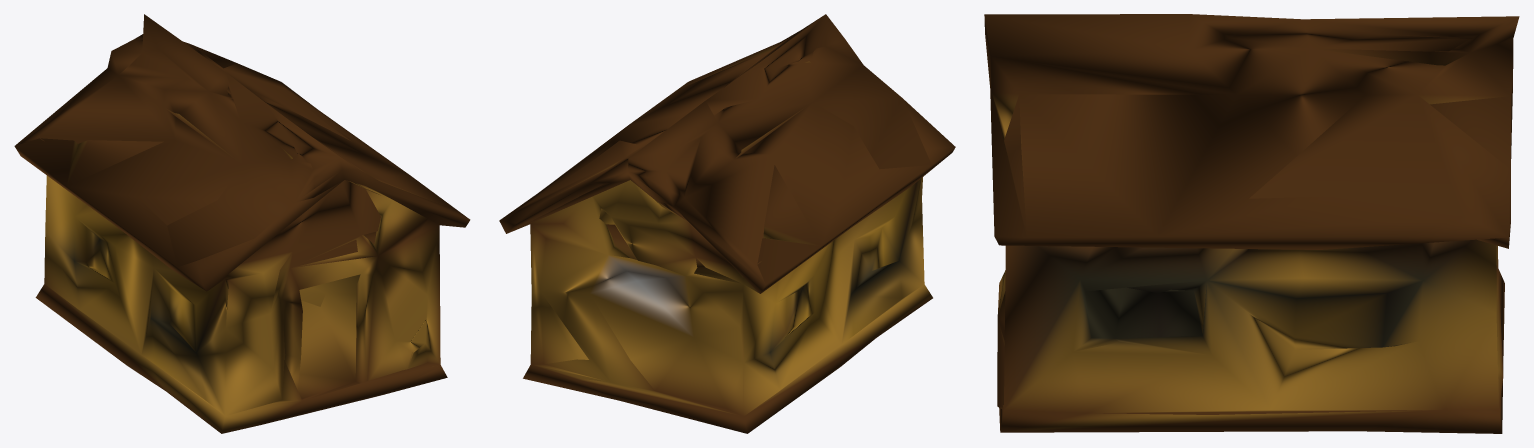
Rendered from gen3d-beach-hut-lod1.glb.
3 views of the same model, side by side, from view 1: azimuth 30°, elevation 25°; view 2: azimuth 150°, elevation 25°; view 3: azimuth 270°, elevation 25° (orthographic). The views are drawn at different scales.
Visible parts, largest first — view 1: part_0; view 2: part_0; view 3: part_0.
Boxes of the visible parts, box(x1,y1,x2,y2) form: part_0: box(14, 14, 470, 433); part_0: box(499, 14, 955, 433); part_0: box(984, 14, 1519, 433).
Bounding box in the file's own units: 1.11 × 0.9979 × 1.4.
